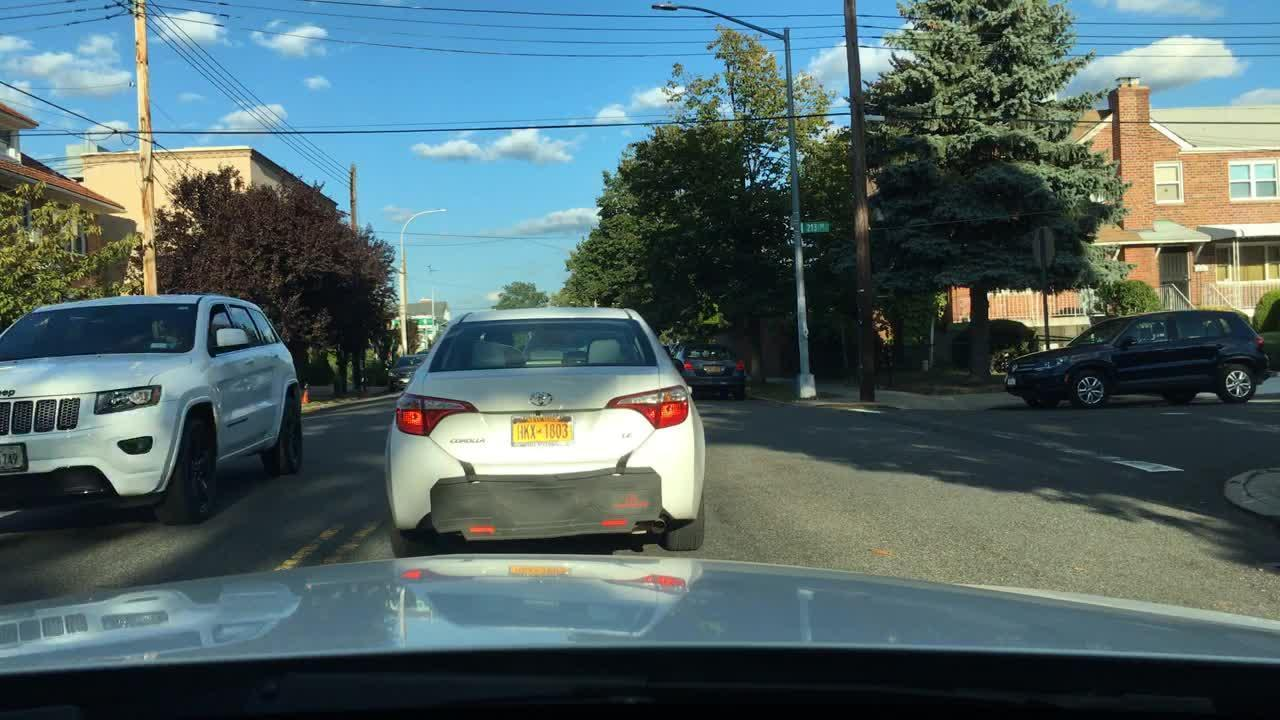Toyota: (525, 389, 557, 411)
jeep: (0, 385, 22, 402)
